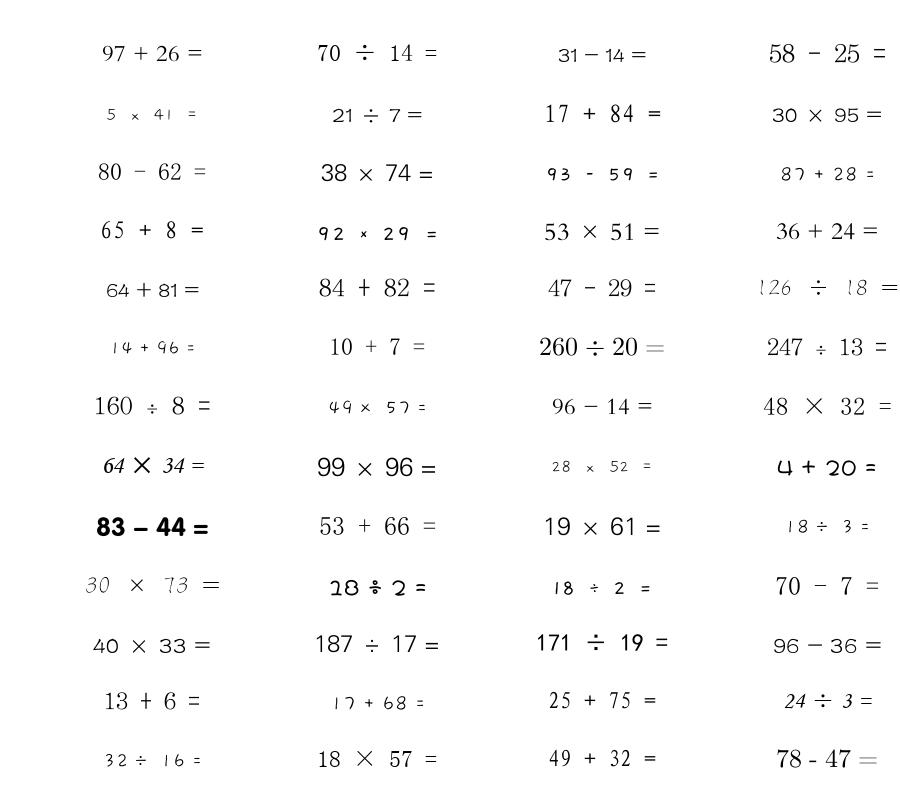MQ: (756, 279, 899, 296), (317, 457, 437, 477), (539, 337, 665, 356), (769, 43, 886, 63), (763, 397, 892, 415), (85, 577, 220, 594), (314, 635, 440, 653), (96, 517, 209, 537), (536, 634, 668, 651), (543, 517, 661, 536), (544, 104, 661, 123), (319, 278, 436, 297), (94, 396, 211, 415), (767, 338, 887, 356), (319, 517, 436, 535), (544, 223, 660, 241), (317, 44, 437, 61), (317, 750, 437, 767), (321, 164, 434, 182), (548, 279, 656, 297), (548, 691, 656, 709), (548, 749, 656, 767), (776, 749, 878, 768), (93, 638, 211, 654), (100, 221, 204, 239), (775, 577, 879, 595), (98, 163, 206, 180), (776, 223, 879, 240), (101, 457, 204, 474), (104, 692, 200, 710), (316, 227, 439, 241), (102, 45, 203, 62), (552, 398, 653, 415), (328, 579, 427, 596), (773, 638, 882, 653), (329, 338, 425, 355), (777, 460, 877, 476), (772, 108, 882, 122), (545, 168, 660, 181), (106, 282, 199, 298), (328, 400, 427, 415), (103, 753, 202, 768), (780, 167, 875, 182), (330, 696, 425, 711), (783, 693, 872, 709), (553, 581, 652, 595), (332, 108, 422, 123), (551, 460, 653, 473), (558, 48, 646, 63), (784, 519, 870, 534), (109, 341, 196, 355), (106, 108, 198, 121)
